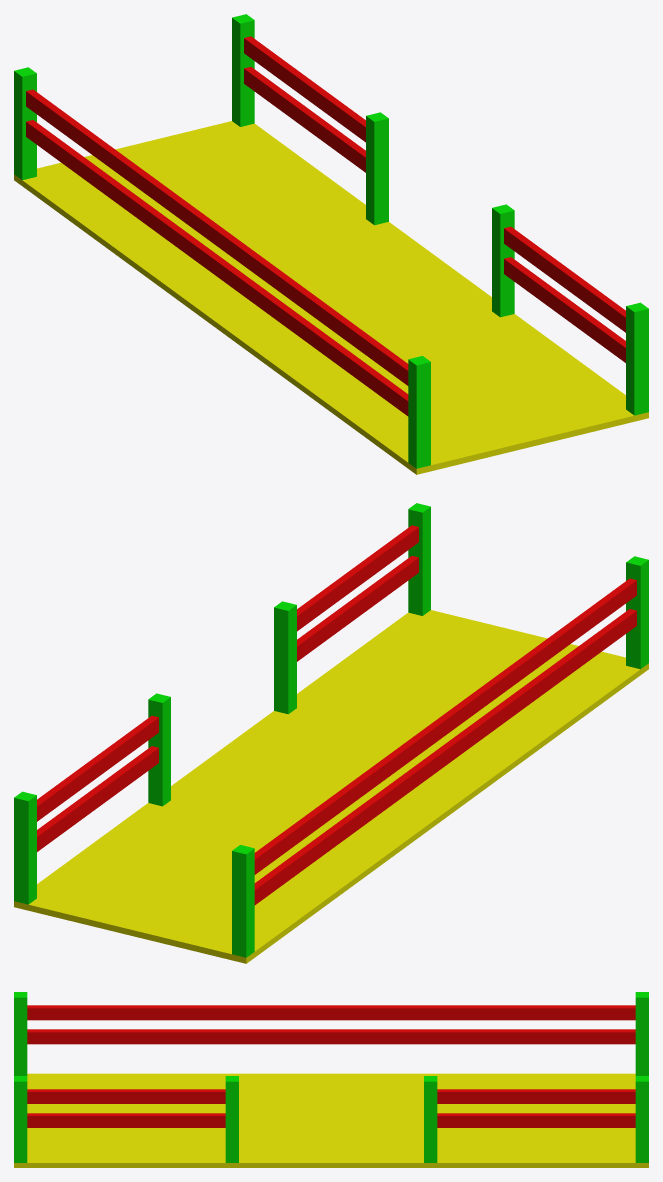
File: WalkwayC_SM (7).fbx
3 views of the same model, one above another, from view 1: azimuth 30°, elevation 25°; view 2: azimuth 150°, elevation 25°; view 3: azimuth 270°, elevation 25° (orthographic). The views are drawn at different scales.
Visible parts, largest first — view 1: polySurface13; view 2: polySurface13; view 3: polySurface13.
Part boxes in pixels (<box>): polySurface13: <box>14,14,648,474</box>; polySurface13: <box>14,503,648,963</box>; polySurface13: <box>14,992,648,1167</box>.
Size of the model in its own units: 8 by 3.6 by 24.
